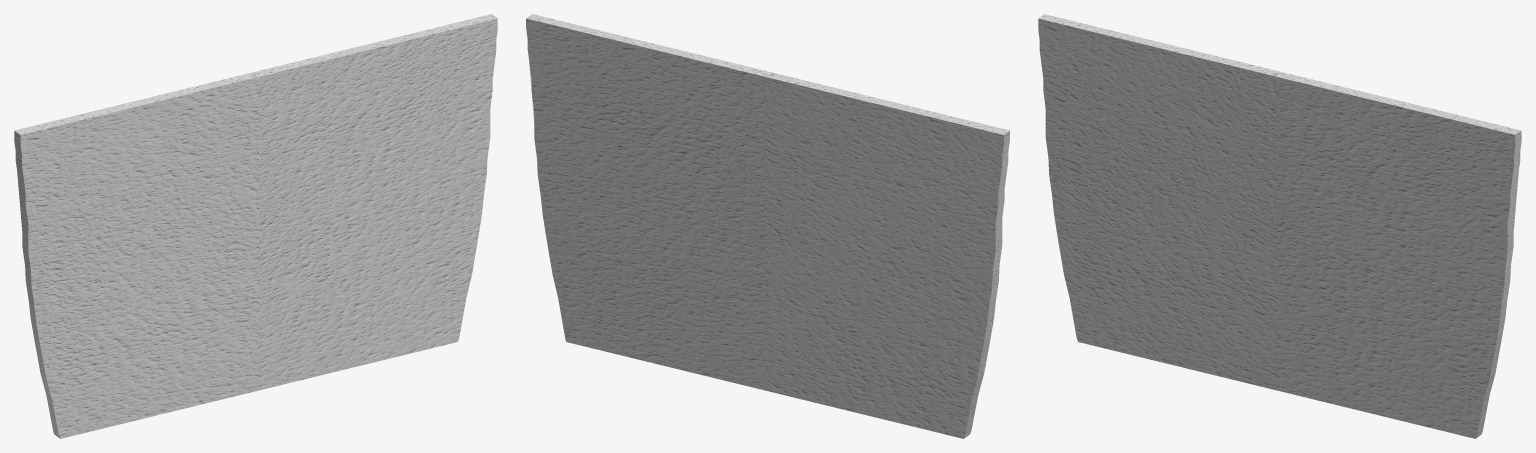
Rendered from side.fbx.
3 views of the same model, side by side, from view 1: azimuth 30°, elevation 25°; view 2: azimuth 150°, elevation 25°; view 3: azimuth 330°, elevation 25° (orthographic).
Visible parts, largest first — view 1: Cube; view 2: Cube; view 3: Cube.
Part boxes in pixels (box(x1,y1,x2,y2)): Cube: box(14, 14, 497, 438); Cube: box(526, 14, 1009, 438); Cube: box(1038, 14, 1521, 438).
Size of the model in its own units: 558 by 350 by 12.5.
1 material, 1 textured.
